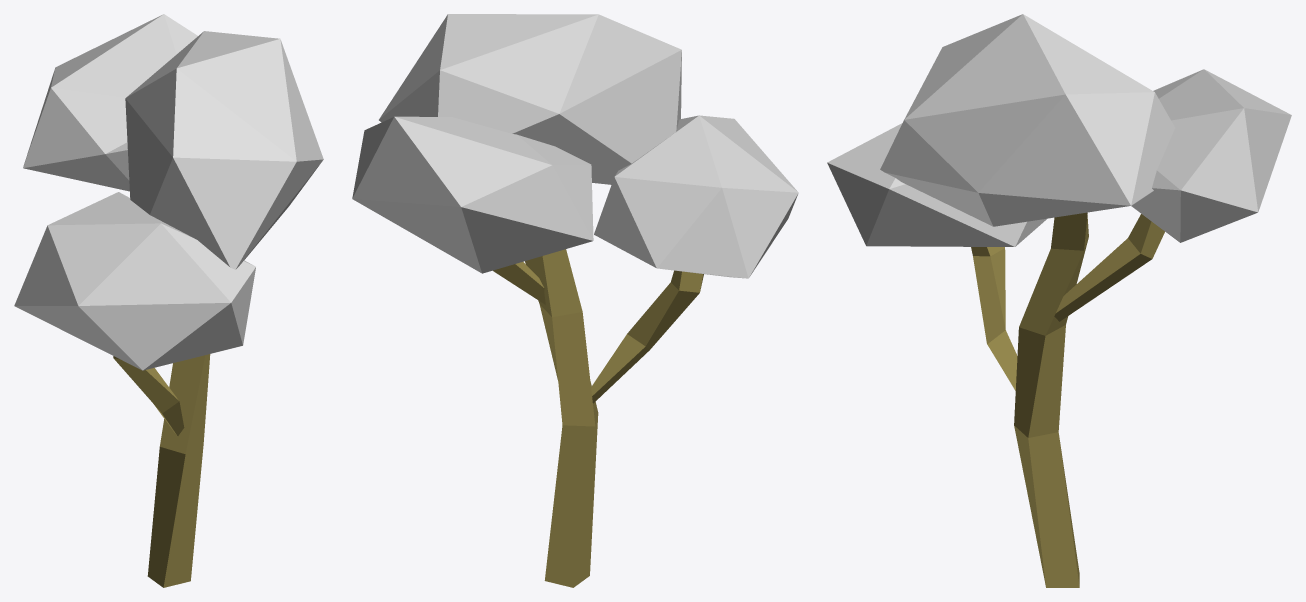
Rendered from Tree_Winter_7.fbx.
The picture shows the model from 3 angles, left to right: view 1: azimuth 30°, elevation 25°; view 2: azimuth 150°, elevation 25°; view 3: azimuth 270°, elevation 25°; orthographic projection. The views are drawn at different scales.
Parts seen in each view (by area): view 1: Leaves.002, Leaves, Leaves.001, Trunk, Trunk.002; view 2: Leaves.002, Leaves.001, Leaves, Trunk, Trunk.002, Trunk.001; view 3: Leaves.002, Leaves.001, Trunk, Leaves, Trunk.001, Trunk.002.
Boxes of the visible parts, box(x1,y1,x2,y2) form: Leaves.002: box(125, 31, 323, 269); Leaves: box(14, 192, 255, 370); Leaves.001: box(23, 14, 197, 191); Trunk: box(147, 354, 210, 587); Trunk.002: box(113, 356, 184, 436); Leaves.002: box(379, 14, 681, 184); Leaves.001: box(352, 116, 593, 273); Leaves: box(594, 115, 798, 278); Trunk: box(525, 249, 598, 587); Trunk.002: box(591, 270, 703, 403); Trunk.001: box(493, 262, 545, 304); Leaves.002: box(880, 14, 1174, 226); Leaves.001: box(1131, 69, 1291, 242); Trunk: box(1014, 212, 1088, 587); Leaves: box(827, 123, 1046, 246); Trunk.001: box(1054, 214, 1164, 321); Trunk.002: box(971, 247, 1017, 390).
Bounding box in the file's own units: 213 × 345 × 259.
